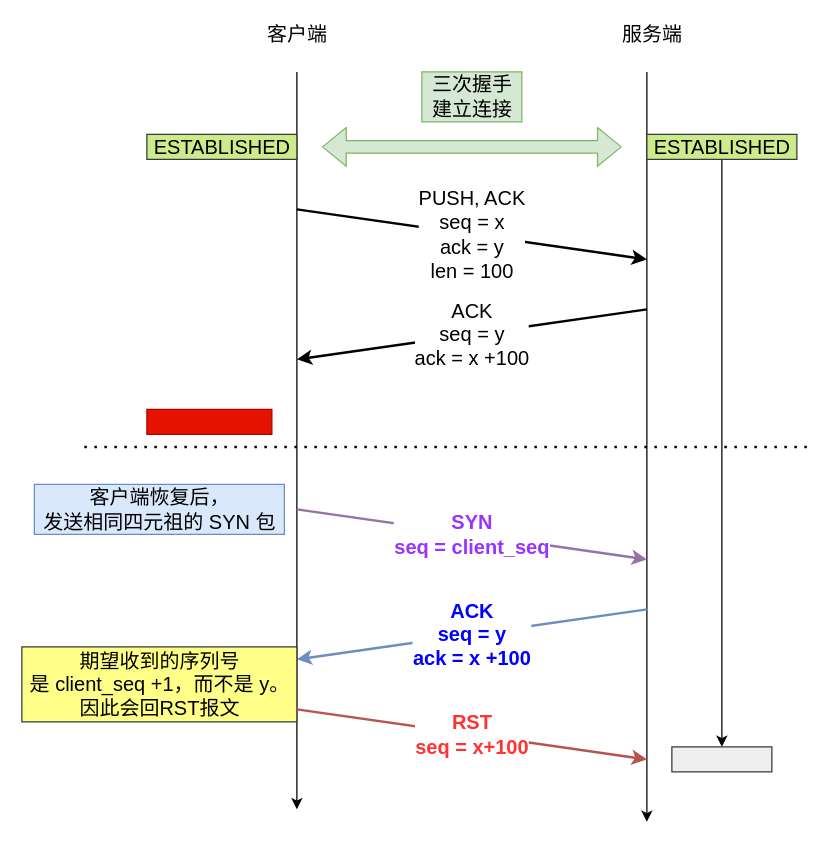
The diagram is 834 pixels wide and 854 high, and some of its shapes have lost their labels. The centre of each missing label's shape, as x and y in pixels:
"CLOSED" belongs at (x=721, y=759).
"客户端宕机" belongs at (x=209, y=421).
